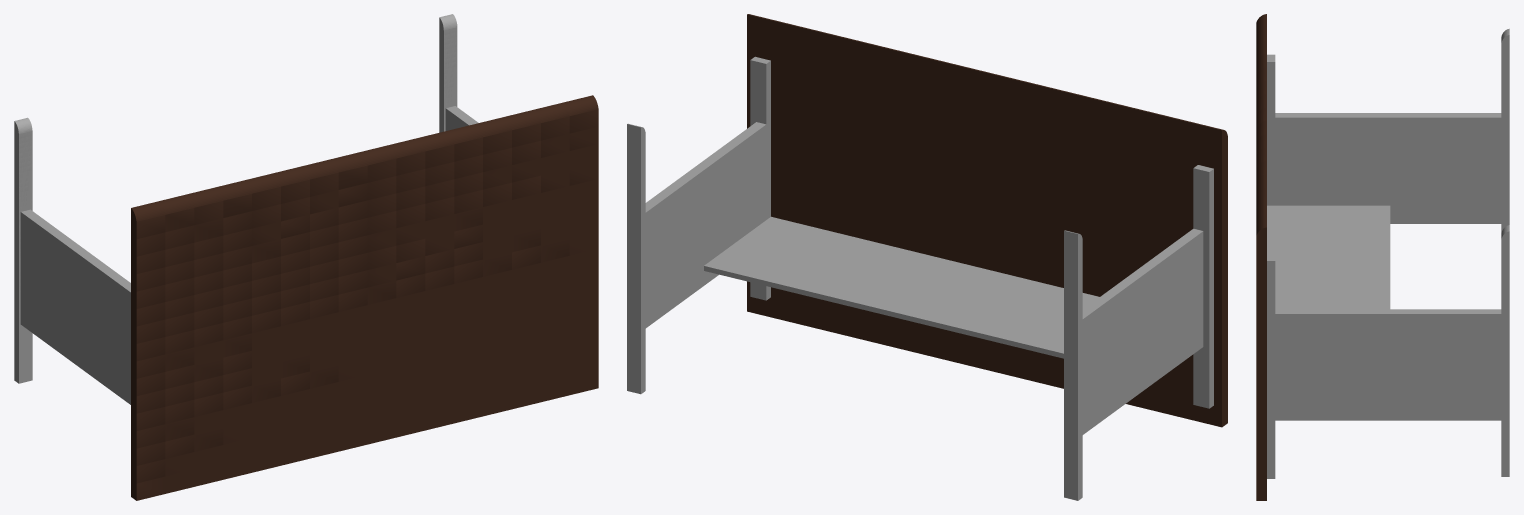
The model's file is table.obj.
3 views of the same model, side by side, from view 1: azimuth 30°, elevation 25°; view 2: azimuth 150°, elevation 25°; view 3: azimuth 270°, elevation 25° (orthographic). The views are drawn at different scales.
Visible parts, largest first — view 1: Computer_Desk; view 2: Computer_Desk; view 3: Computer_Desk.
Part boxes in pixels (box(x1,y1,x2,y2)): Computer_Desk: box(14, 14, 598, 500); Computer_Desk: box(627, 14, 1227, 500); Computer_Desk: box(1256, 14, 1509, 500).
Size of the model in its own units: 1.5 by 0.8992 by 0.7557.
